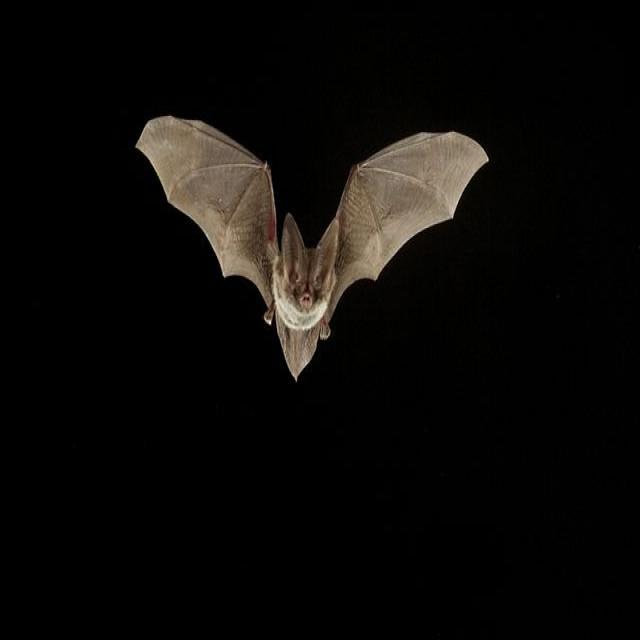Bat: (134, 112, 496, 379)
